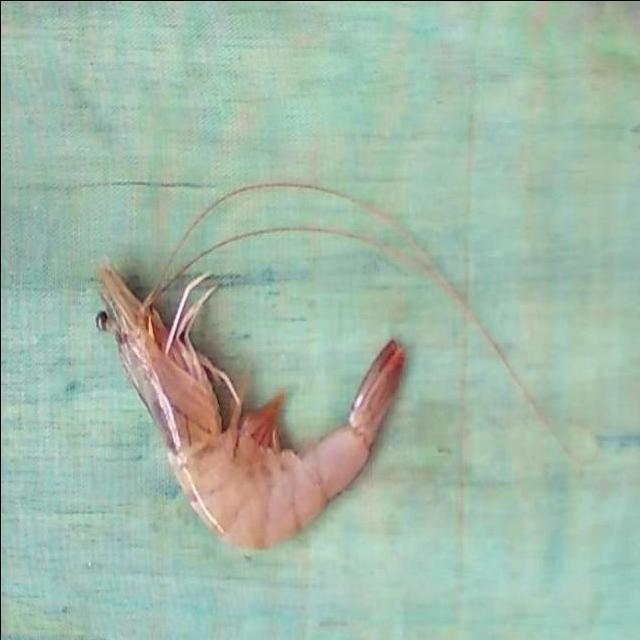shrimp: (96, 264, 404, 549)
